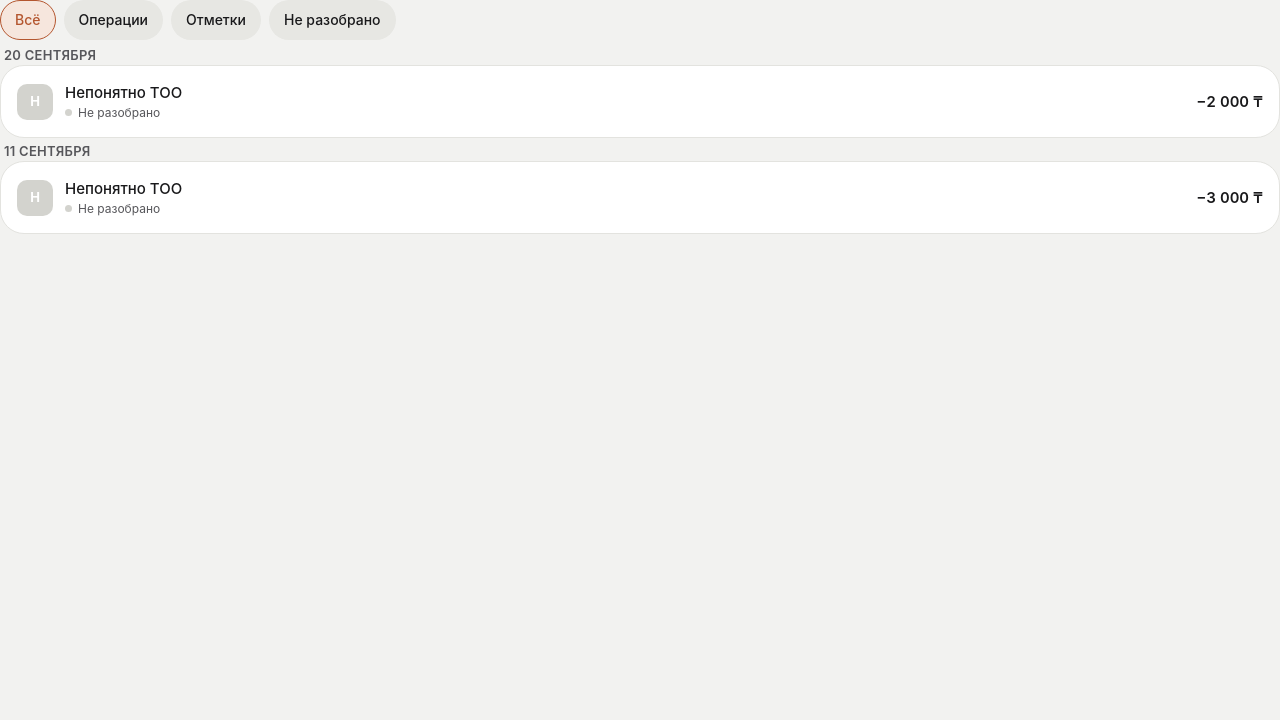
Test: B2C-44: «куда отнести?» из «Истории» › нажатие на операцию → чипы разделов → recategorize(продавец, раздел); строка и spendTotals — в «Продуктах»
Click the button "Н Непонятно ТОО Не разобрано −2 000 ₸".
click(35, 102)  # box [17,82,1263,121]
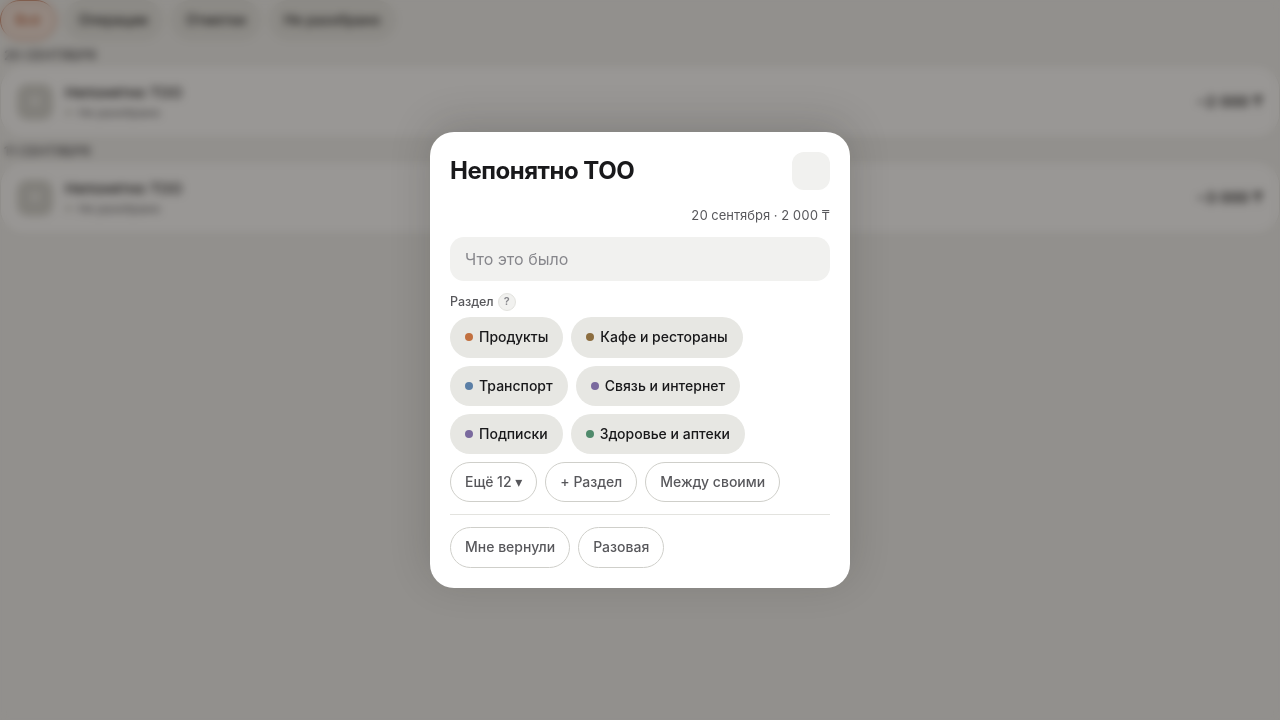
expect the dialog shows "Мне вернули": met, box [450,527,570,568]
expect the dialog shows "Продукты": met
expect the dialog shows "Между своими": met, box [645,462,780,502]
Click the button "Продукты".
click(507, 337)  # box [450,317,563,358]
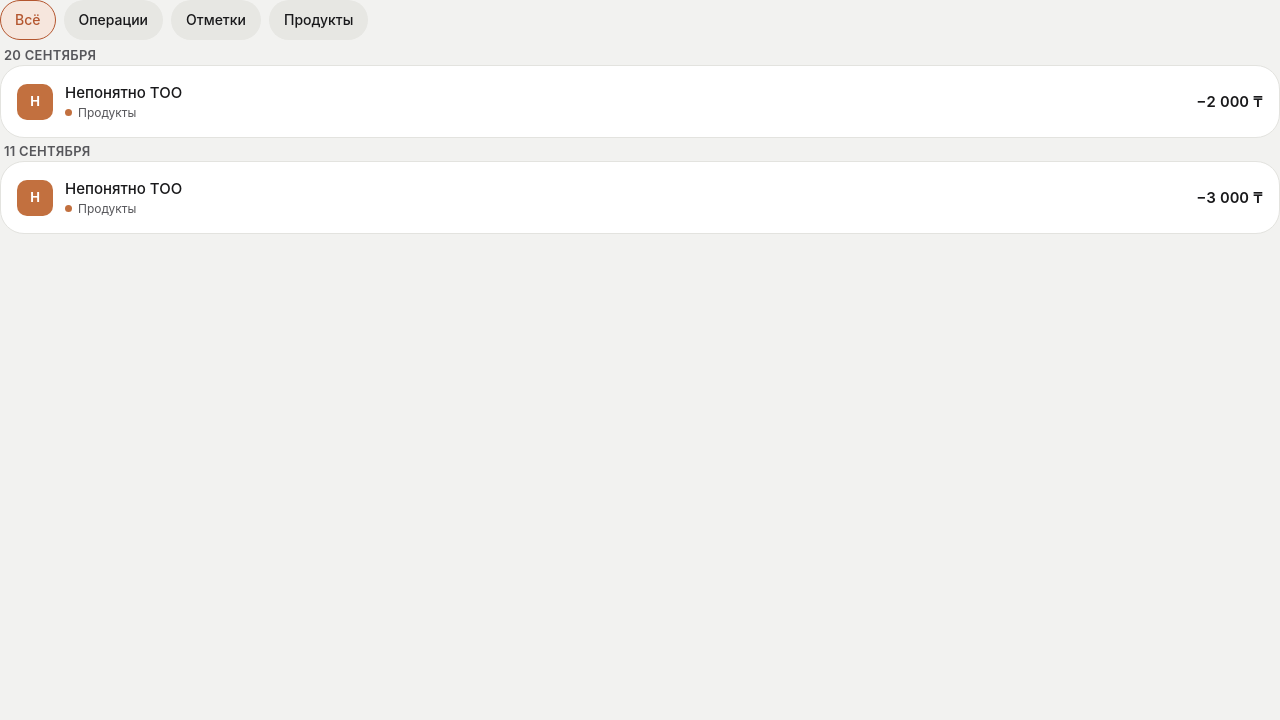
expect the dialog is gone: met
expect the text "Не разобрано" is gone: met
